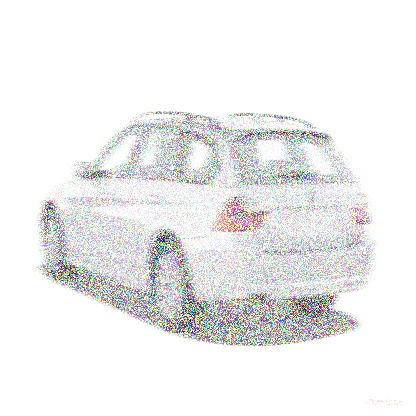Vehicle: (40, 111, 374, 335)
